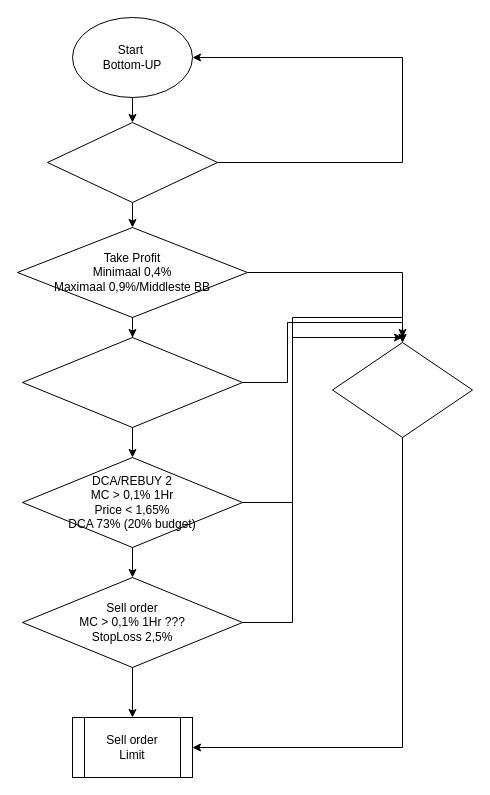
Some shapes in this 490 by 795 pixel diagram are drawn without their labels. Each missing label, with the box of its shape:
DCA/REBUY 1 MC > 0,1% 1Hr Price < 1,25% DCA 133% (15% budget): (22, 336, 242, 428)
Stoploss 2,5%: (332, 342, 472, 438)
Voorwaarden: MC > 0,1% Candles > 3: (46, 122, 218, 202)
